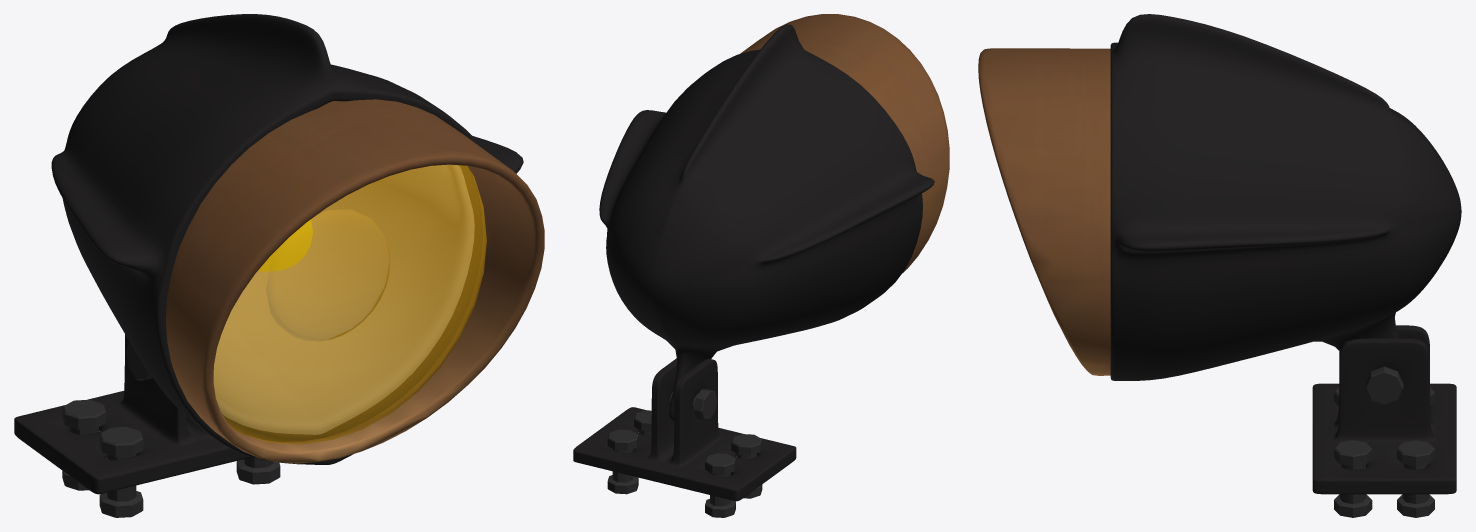
File: faro_vintage.glb
3 renders of one model, left to right at view 1: azimuth 30°, elevation 25°; view 2: azimuth 150°, elevation 25°; view 3: azimuth 270°, elevation 25°, orthographic. The views are drawn at different scales.
Parts seen in each view (by area): view 1: Object001_id_6_Material #64_0, Object001_id_3_11. ACRILICO_0, Object001_id_5_Material #60_0, Object001_id_4_13. CROMO_0, Object001_id_1_COBRE_0, Object001_id_2_7. CRISTAL TRANSLUCIDO_0; view 2: Object001_id_6_Material #64_0, Object001_id_5_Material #60_0, Object001_id_1_COBRE_0; view 3: Object001_id_6_Material #64_0, Object001_id_5_Material #60_0, Object001_id_1_COBRE_0.
Part boxes in pixels (bbox=[...]): Object001_id_6_Material #64_0: bbox=[14, 14, 523, 494]; Object001_id_3_11. ACRILICO_0: bbox=[213, 164, 486, 444]; Object001_id_5_Material #60_0: bbox=[166, 99, 544, 463]; Object001_id_4_13. CROMO_0: bbox=[214, 165, 474, 434]; Object001_id_1_COBRE_0: bbox=[62, 341, 280, 517]; Object001_id_2_7. CRISTAL TRANSLUCIDO_0: bbox=[259, 220, 312, 271]; Object001_id_6_Material #64_0: bbox=[573, 24, 934, 501]; Object001_id_5_Material #60_0: bbox=[740, 14, 949, 272]; Object001_id_1_COBRE_0: bbox=[607, 389, 762, 517]; Object001_id_6_Material #64_0: bbox=[1110, 14, 1461, 494]; Object001_id_5_Material #60_0: bbox=[978, 48, 1110, 375]; Object001_id_1_COBRE_0: bbox=[1334, 366, 1434, 517].
Size of the model in its own units: 0.1726 by 0.22 by 0.2061.
Materials: 6 (1 with a texture image).
